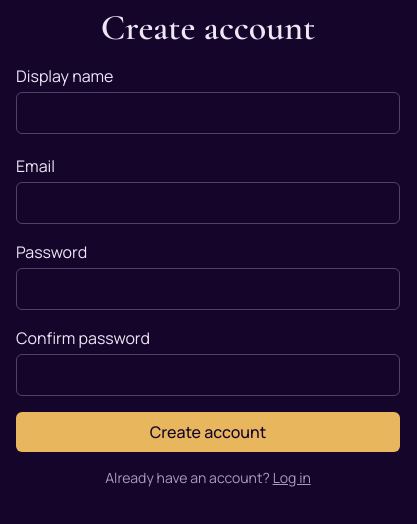
Test: shows a live status while the debounced check is in flight, then the taken message, with the button staying enabled
Type "nightowl" into the field labelled "Display name".
click(208, 113); type("nightowl")  # box [16, 92, 400, 134]
Wait 500 ms
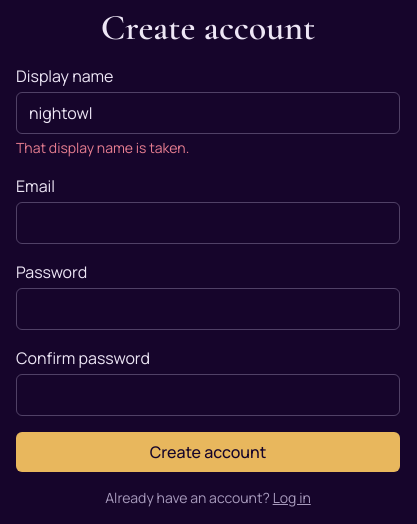
Expected: the button "Create account" is enabled, [16, 432, 400, 472]
Expected: the text "That display name is taken." is shown, [16, 138, 189, 157]
